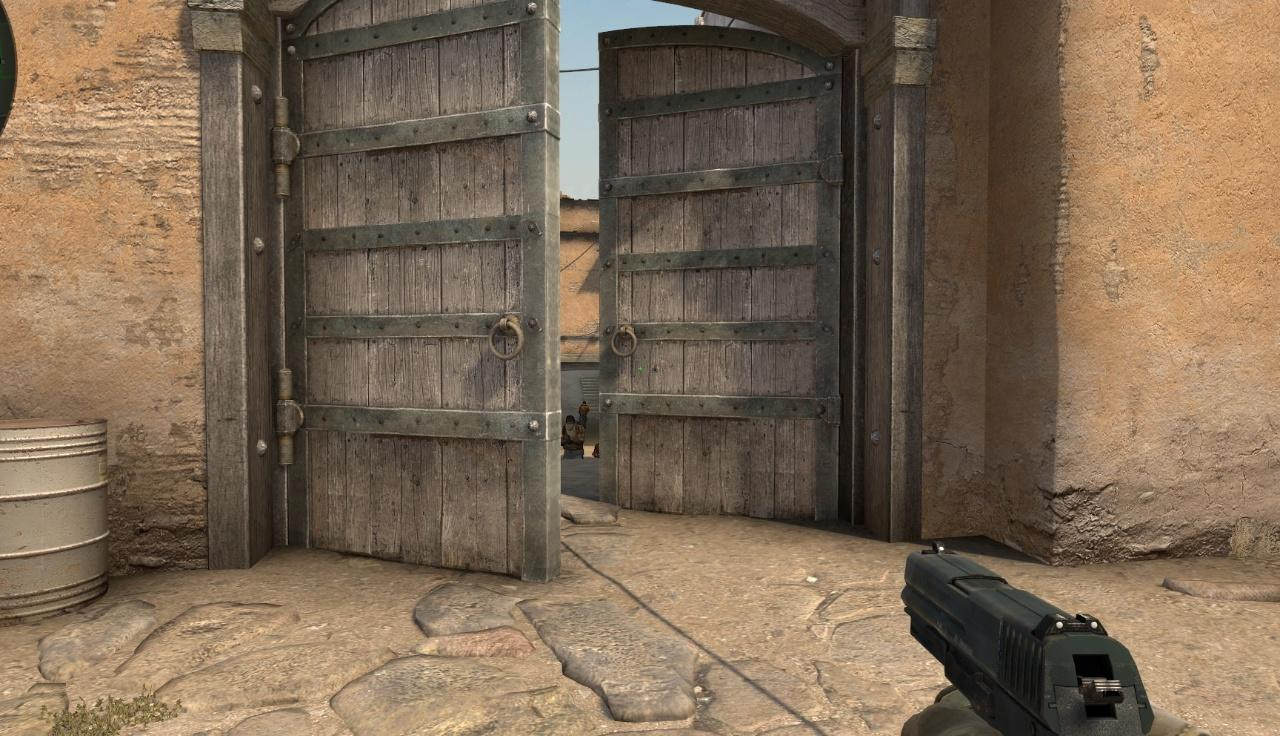pistol: (902, 544, 1215, 736)
tt: (561, 415, 584, 459), (578, 401, 590, 429)
tthead: (566, 416, 575, 430), (582, 401, 586, 405)
